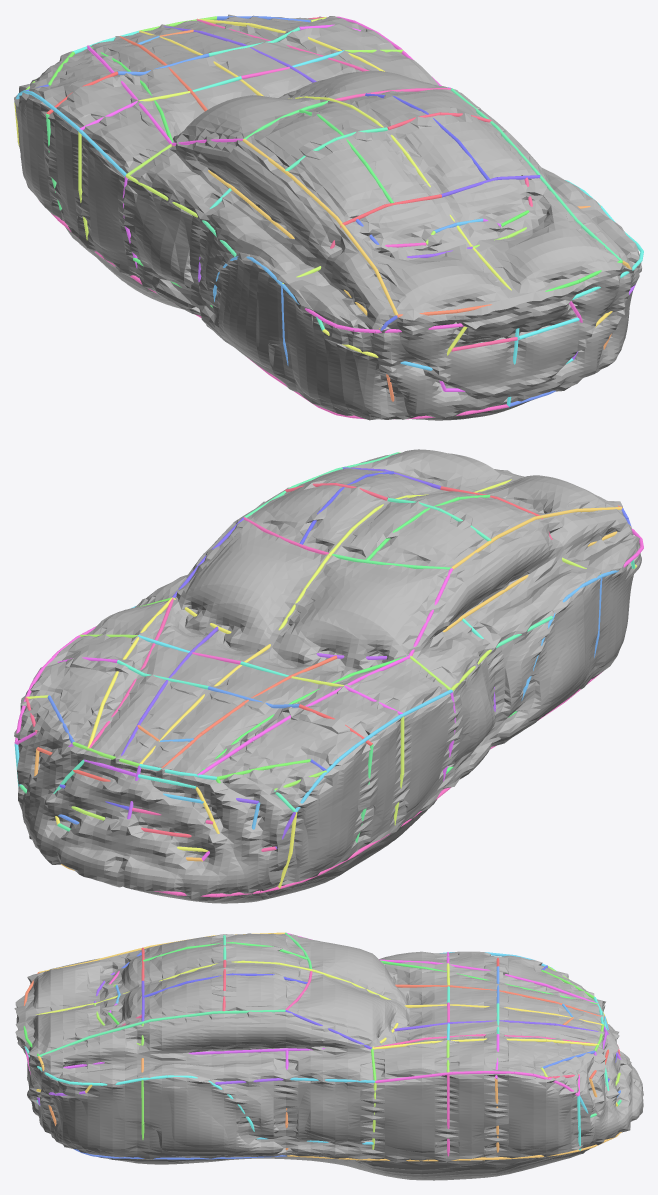
Rendered from ils_car5.gltf.
3 renders of one model, top to bottom at view 1: azimuth 30°, elevation 25°; view 2: azimuth 150°, elevation 25°; view 3: azimuth 270°, elevation 25°, orthographic. The views are drawn at different scales.
Size of the model in its own units: 0.4237 by 0.3157 by 0.9032.
